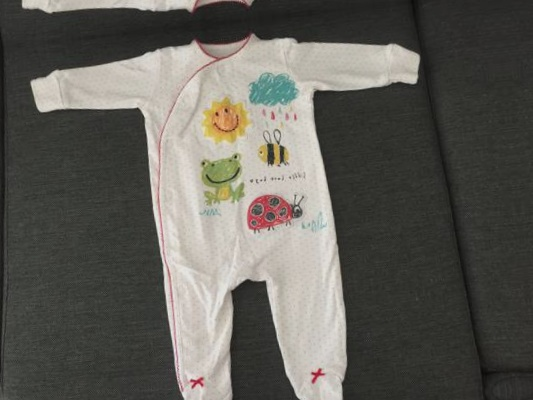Body: (16, 7, 470, 400), (0, 0, 425, 38), (59, 397, 513, 400)
